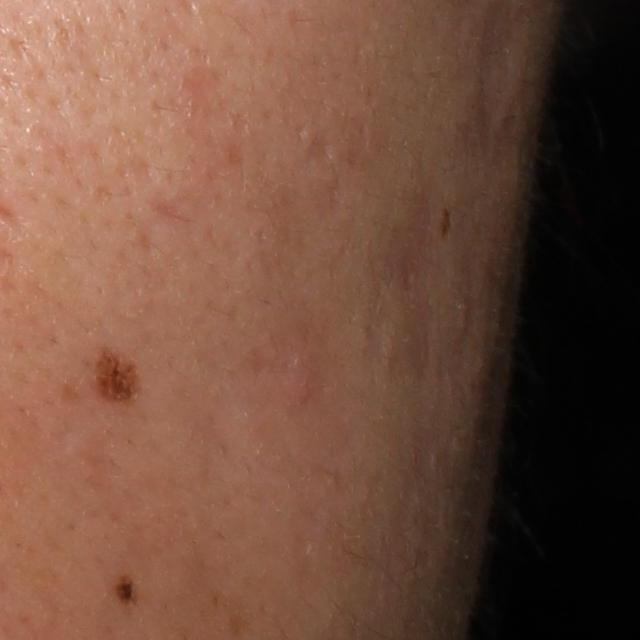atrophic_scar: (303, 126, 333, 167)
nevus: (93, 343, 149, 411), (113, 577, 140, 606), (437, 206, 456, 242)
papule: (288, 355, 324, 410)
